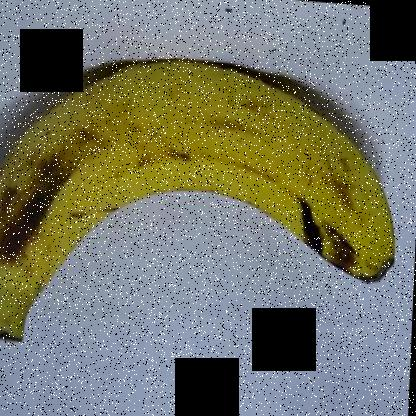ripe: (1, 51, 404, 365)
